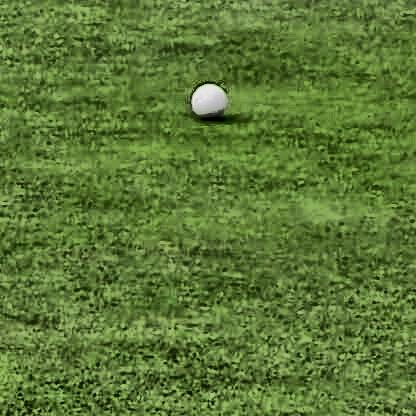golfball: (189, 79, 225, 116)
